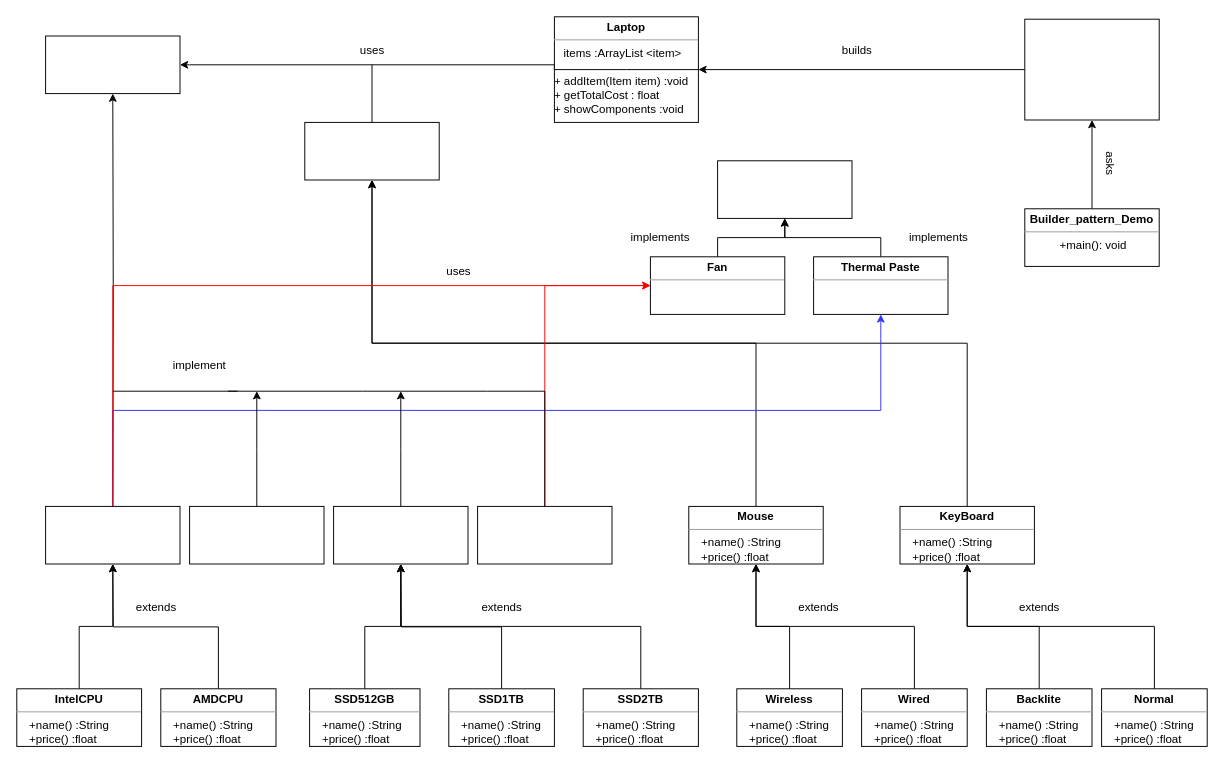
The diagram is 1224 pixels wide and 763 high, and some of its shapes have lost their labels. Each missing label, with the centre of its shape:
CPU +name() :String +price() :float: point (112, 534)
ExternalDevice +name() :String +price() :float: point (371, 150)
GPU +name() :String +price() :float: point (544, 534)
InternalDevice +name() :String +price() :float: point (112, 64)
Laptopbuilder +gamingLaptopBuilder Laptop +officeLaptopBuilder :Laptop: point (1091, 69)
RAM +name() :String +price() :float: point (256, 534)
Storage +name() :String +price() :float: point (400, 534)
Temperature_Control: point (784, 189)
